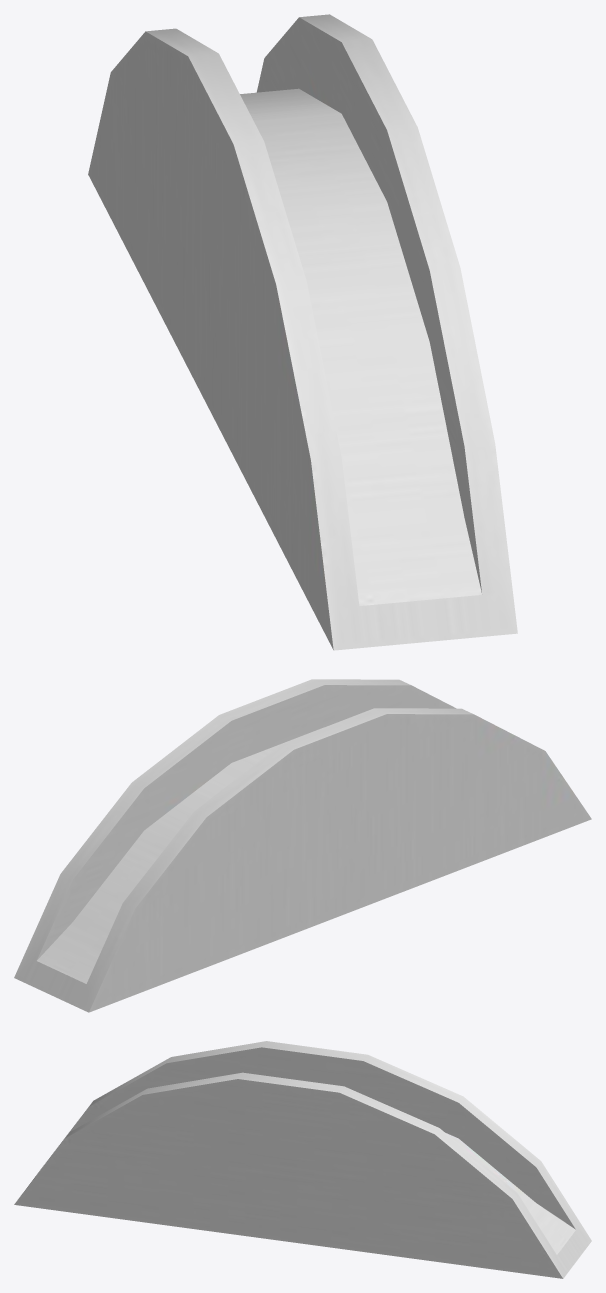
The model's file is tool_pipe_bender_crossbow_nozzle_04.glb.
3 renders of one model, top to bottom at view 1: azimuth 30°, elevation 25°; view 2: azimuth 150°, elevation 25°; view 3: azimuth 270°, elevation 25°, orthographic. The views are drawn at different scales.
Visible parts, largest first — view 1: tool_pipe_bender_crossbow_nozzle_04; view 2: tool_pipe_bender_crossbow_nozzle_04; view 3: tool_pipe_bender_crossbow_nozzle_04.
Part boxes in pixels (x1,y1,x2,y2): tool_pipe_bender_crossbow_nozzle_04: (88,14,517,650); tool_pipe_bender_crossbow_nozzle_04: (14,679,591,1012); tool_pipe_bender_crossbow_nozzle_04: (14,1041,591,1278).
Bounding box in the file's own units: 0.1019 × 0.0662 × 0.2222.
1 material, 1 textured.
